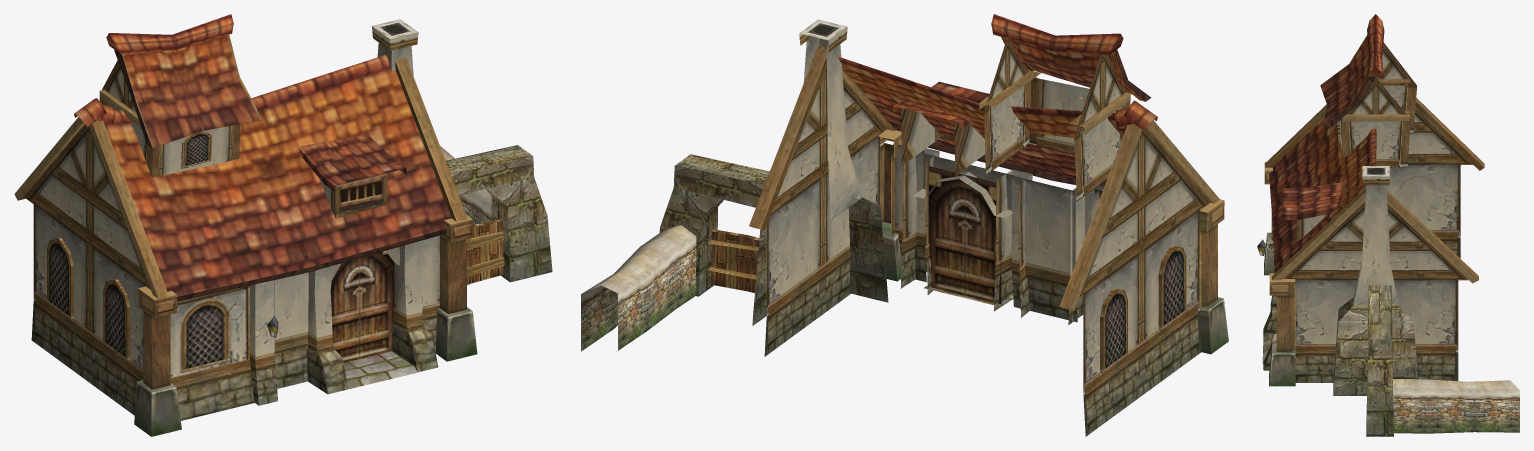
Rendered from S_Build_City044_1060_1.fbx.
The picture shows the model from 3 angles, left to right: view 1: azimuth 30°, elevation 25°; view 2: azimuth 150°, elevation 25°; view 3: azimuth 270°, elevation 25°; orthographic projection. The views are drawn at different scales.
Visible parts, largest first — view 1: S_Build_City044_1060_1; view 2: S_Build_City044_1060_1; view 3: S_Build_City044_1060_1.
Boxes of the visible parts, x1,y1,x2,y2 form: S_Build_City044_1060_1: (14, 14, 552, 436); S_Build_City044_1060_1: (581, 14, 1228, 436); S_Build_City044_1060_1: (1257, 14, 1519, 436).
Bounding box in the file's own units: 1189 × 825 × 752.
